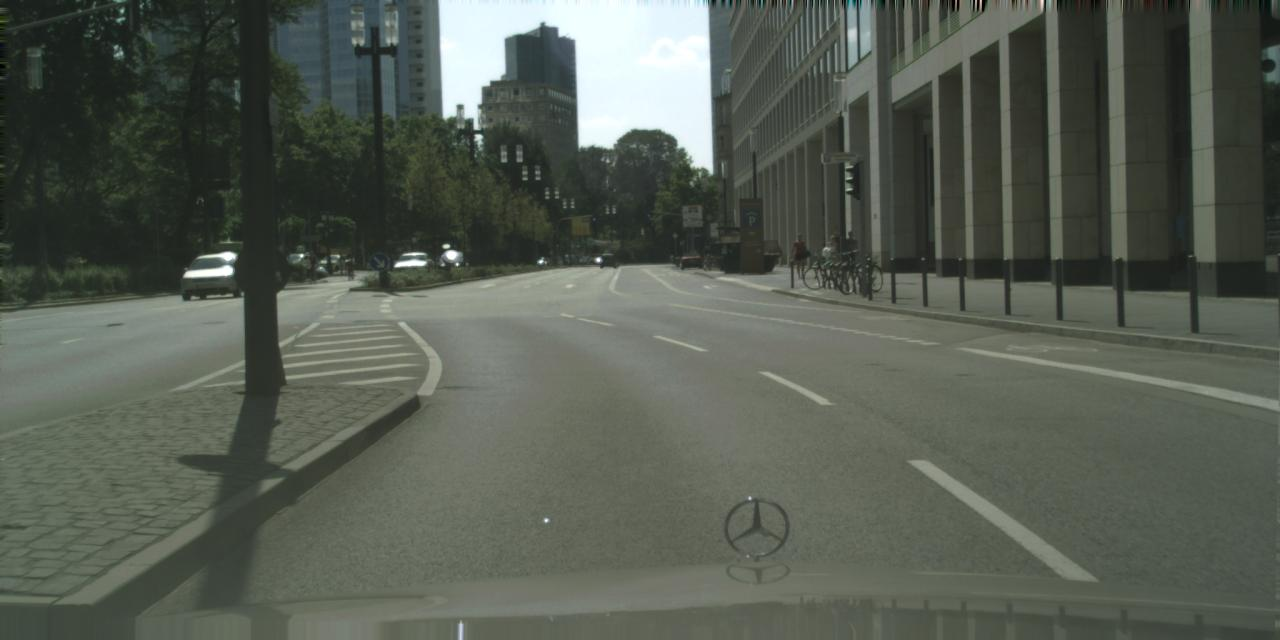ped: (790, 232, 809, 278), (841, 230, 860, 276), (825, 235, 842, 276), (306, 251, 318, 281), (345, 253, 354, 276), (702, 246, 710, 266)
